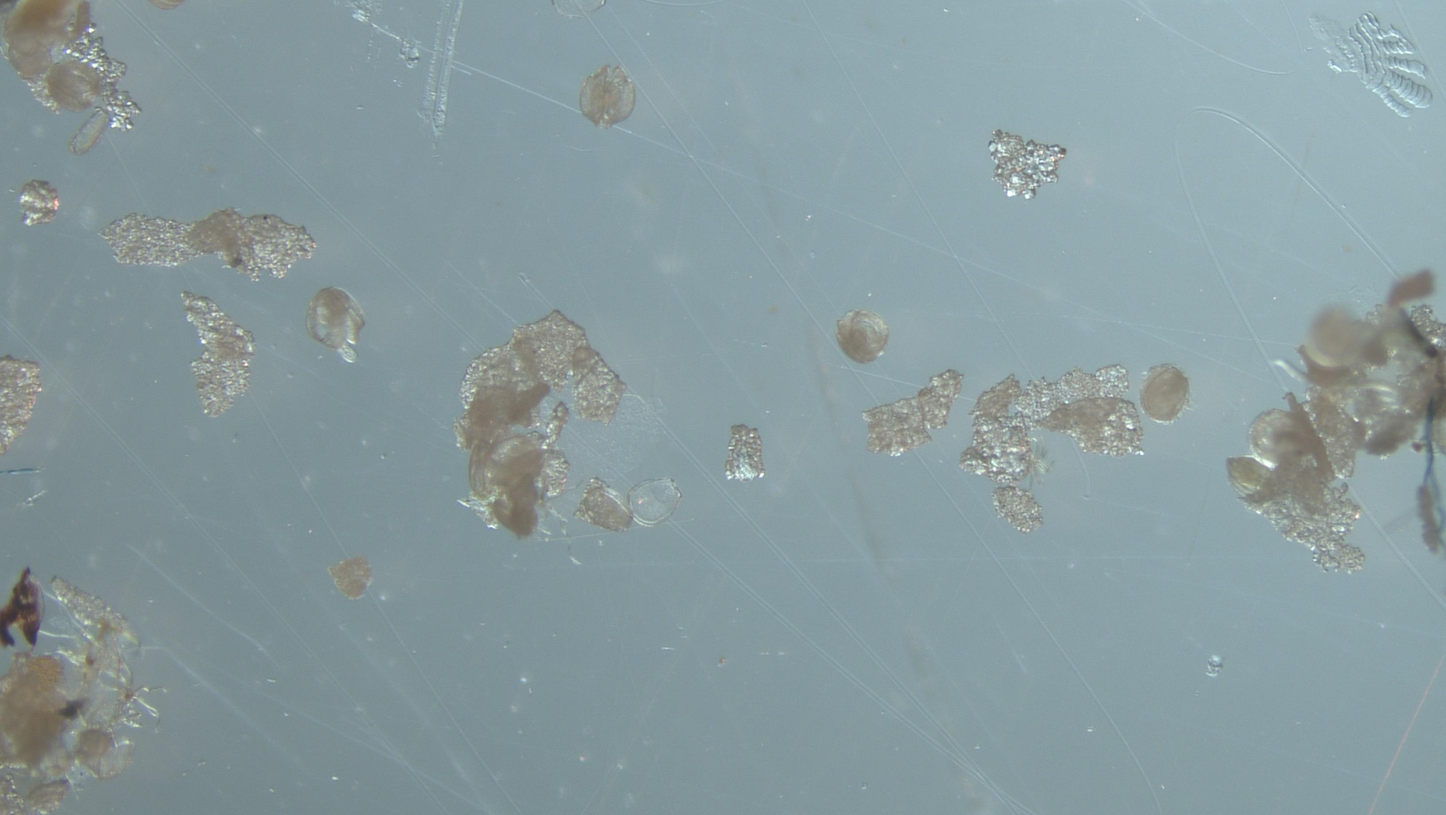dead: (627, 478, 682, 527), (1346, 381, 1402, 419), (104, 740, 133, 778), (552, 0, 606, 18)
live: (307, 288, 365, 362), (1304, 307, 1369, 368), (579, 65, 637, 129), (1250, 410, 1304, 468), (836, 310, 890, 364), (1141, 365, 1189, 423), (45, 61, 100, 111), (5, 35, 52, 78), (1228, 457, 1271, 497), (148, 0, 186, 10)
